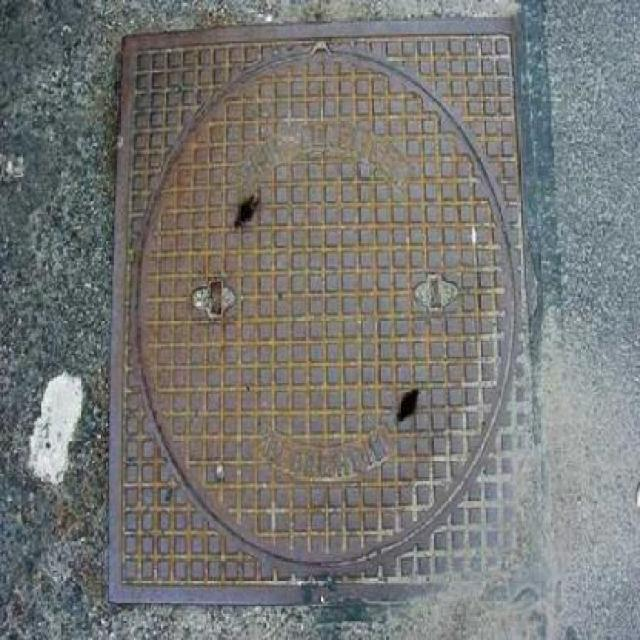Manhole: (88, 19, 566, 618)
